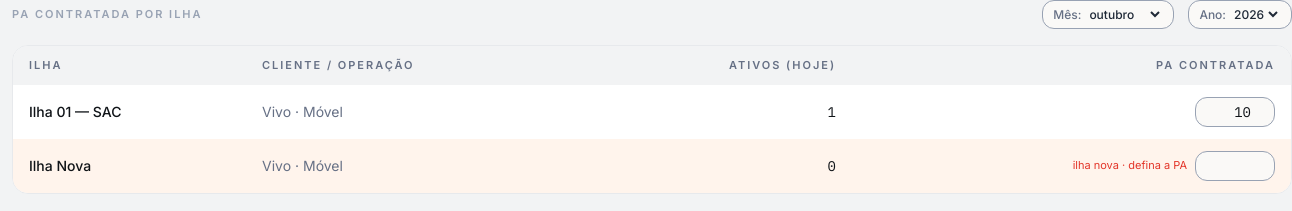
Test: ProvimentoPage › trocar o ano recarrega a PA Contratada daquele período
The image size is (1292, 211).
Expected: the text "Ilha 01 — SAC" is shown, [13,85,246,139]
Expected: the number field named "PA Contratada de Ilha 01 — SAC" holds "10", [1195,97,1275,127]
Select "2025" in the dropdown named "Ano de referência" at [1256, 14], box [1230,6,1281,23]
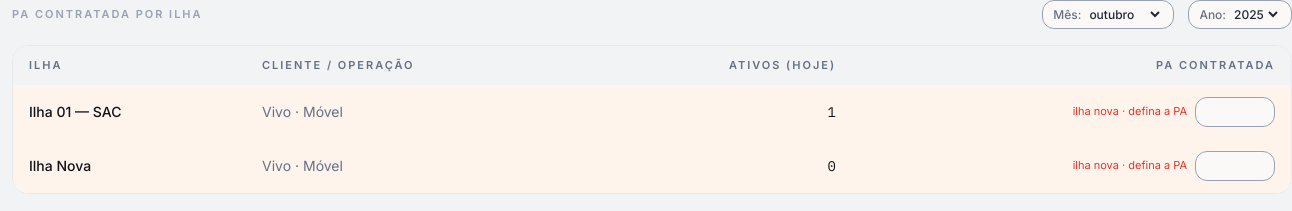
Result: the number field named "PA Contratada de Ilha 01 — SAC" is not empty at [1195,97,1275,127]
